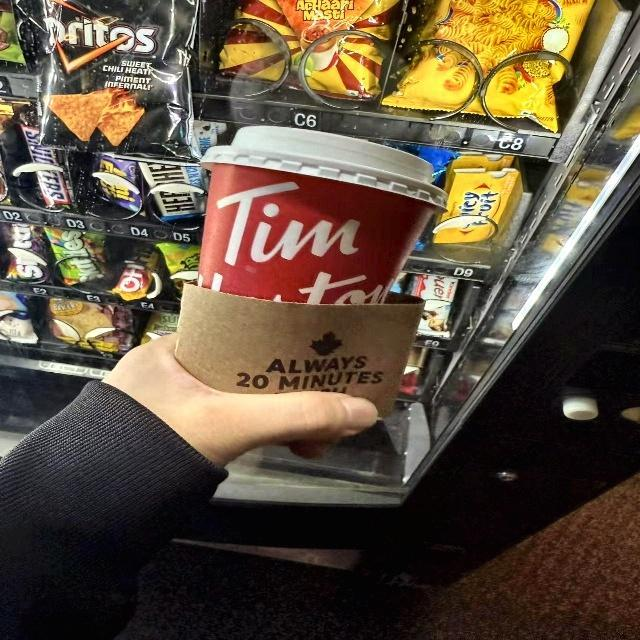timmies: (186, 115, 452, 374)
